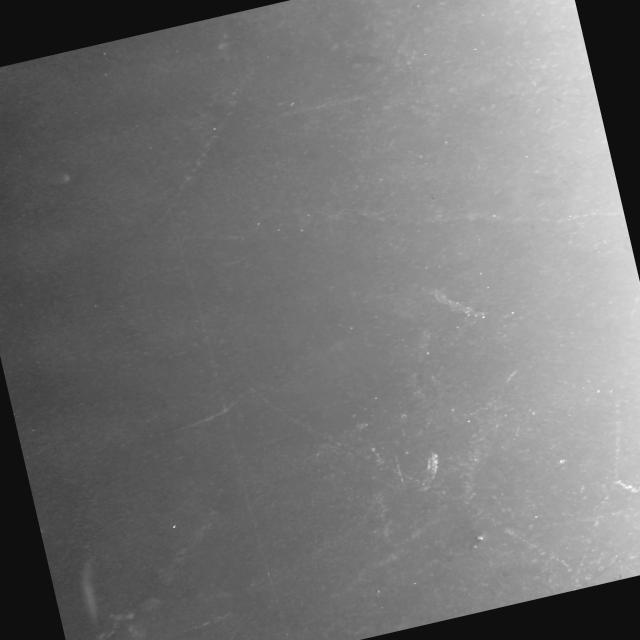beta: (245, 299, 640, 640), (313, 143, 625, 287), (104, 66, 292, 245), (505, 387, 640, 596), (136, 384, 256, 440)
